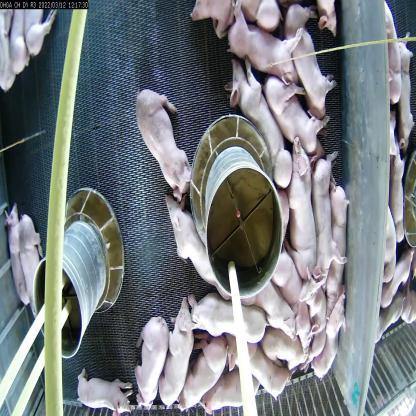Pig: (226, 61, 295, 190), (273, 117, 321, 294), (140, 83, 200, 200), (166, 188, 227, 298), (219, 0, 296, 78), (189, 275, 272, 346), (268, 244, 322, 353), (275, 76, 333, 165), (12, 212, 57, 324), (284, 23, 329, 117), (312, 284, 354, 384), (312, 154, 338, 304), (162, 306, 197, 407), (4, 192, 34, 305), (261, 319, 314, 381), (178, 348, 232, 406), (67, 370, 136, 415), (132, 323, 168, 408), (328, 182, 351, 314), (249, 280, 295, 342), (241, 345, 290, 394), (216, 373, 266, 415), (316, 0, 335, 25)
